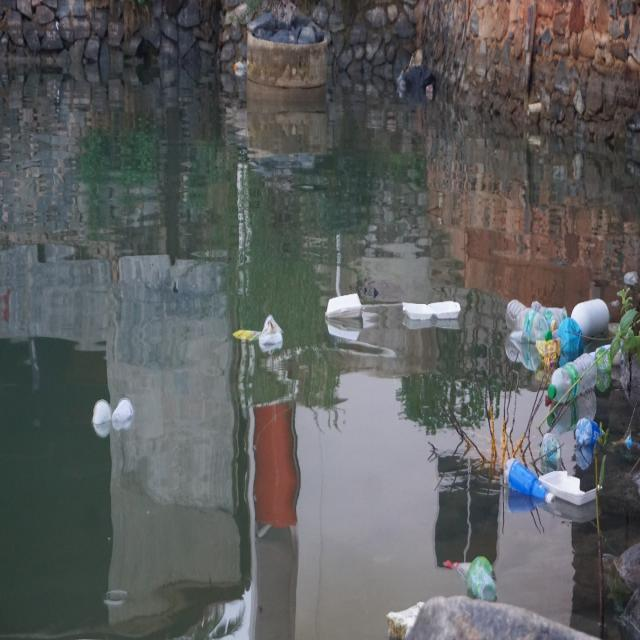Botol Plastik: (501, 454, 553, 517), (547, 354, 604, 409), (502, 295, 553, 347), (575, 417, 609, 452)
Bungkus Makanan: (402, 283, 470, 335), (319, 285, 372, 345), (542, 469, 602, 512)
Bungkus Minuman: (84, 387, 141, 440), (467, 554, 498, 602), (533, 299, 572, 327), (543, 423, 568, 465), (594, 347, 614, 375)
Kantong Plastik: (260, 313, 286, 359)
